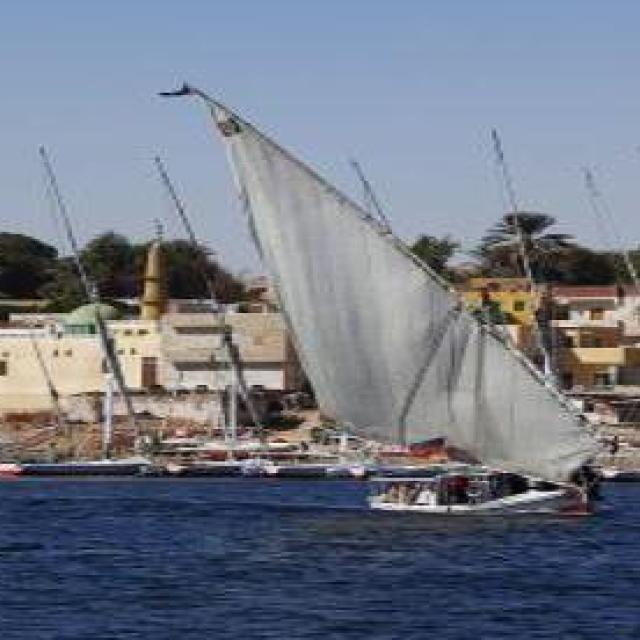sailboat: (180, 78, 603, 516)
